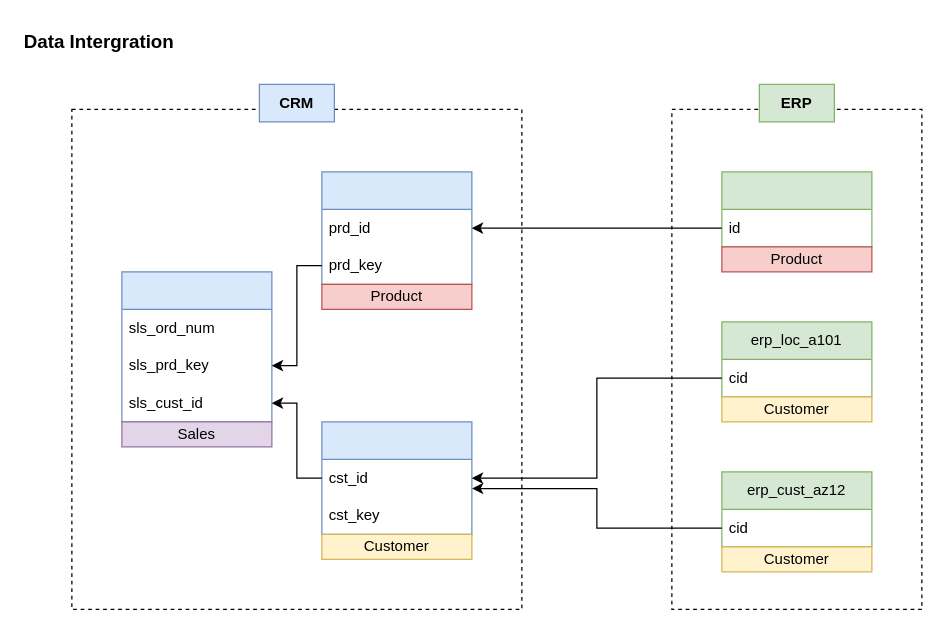
Image size: 944x631. Some labels were removed from this diagram. Here are the shapes that lost their labels. From the top down, the box of each, then its label:
(321, 171, 472, 284): crm_prd_info
(721, 171, 872, 247): erp_px_cat_g1v2
(121, 271, 272, 422): crm_sales_detials
(321, 421, 472, 534): crm_cust_info
